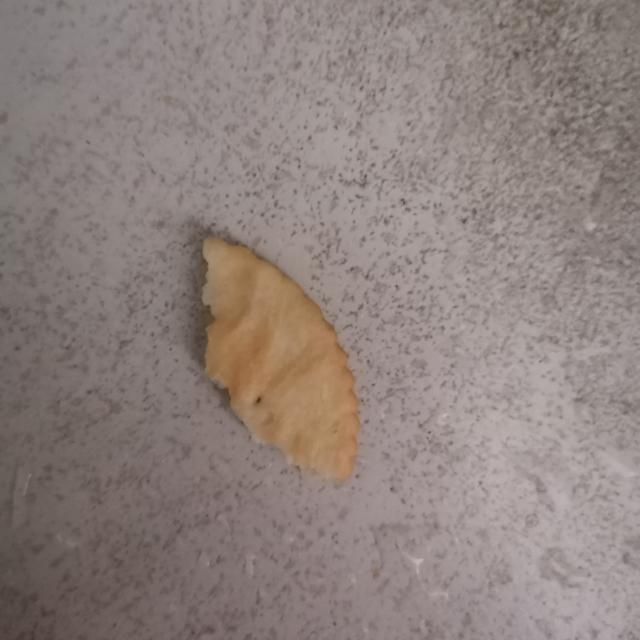Broken: (199, 235, 361, 483)
